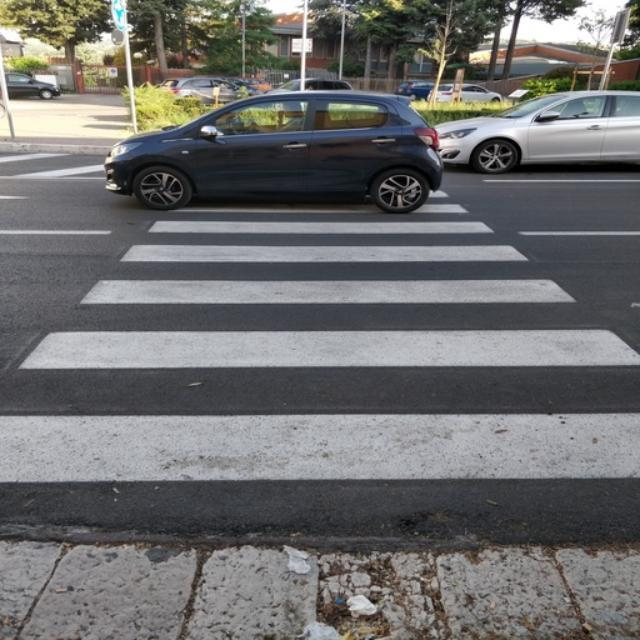sidewalk: (4, 214, 638, 482)
